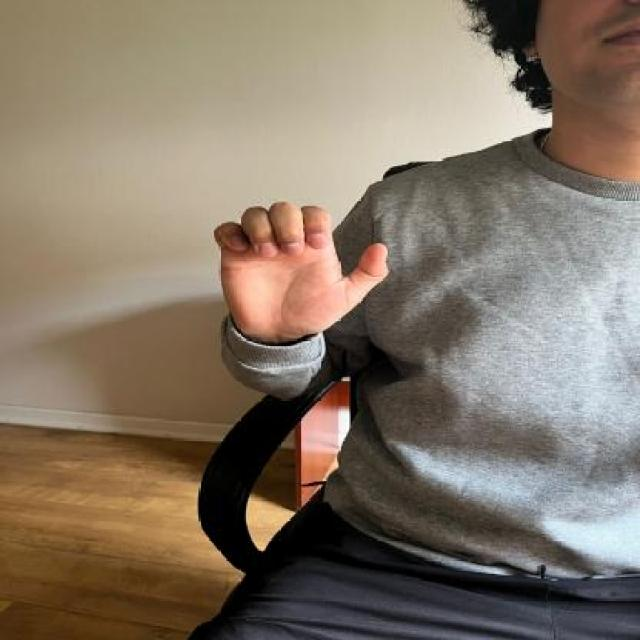E: (205, 200, 403, 349)
